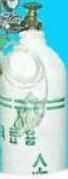cylinder: (1, 1, 68, 179)
